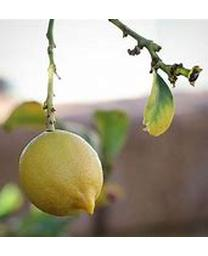lemon: (20, 133, 103, 217)
